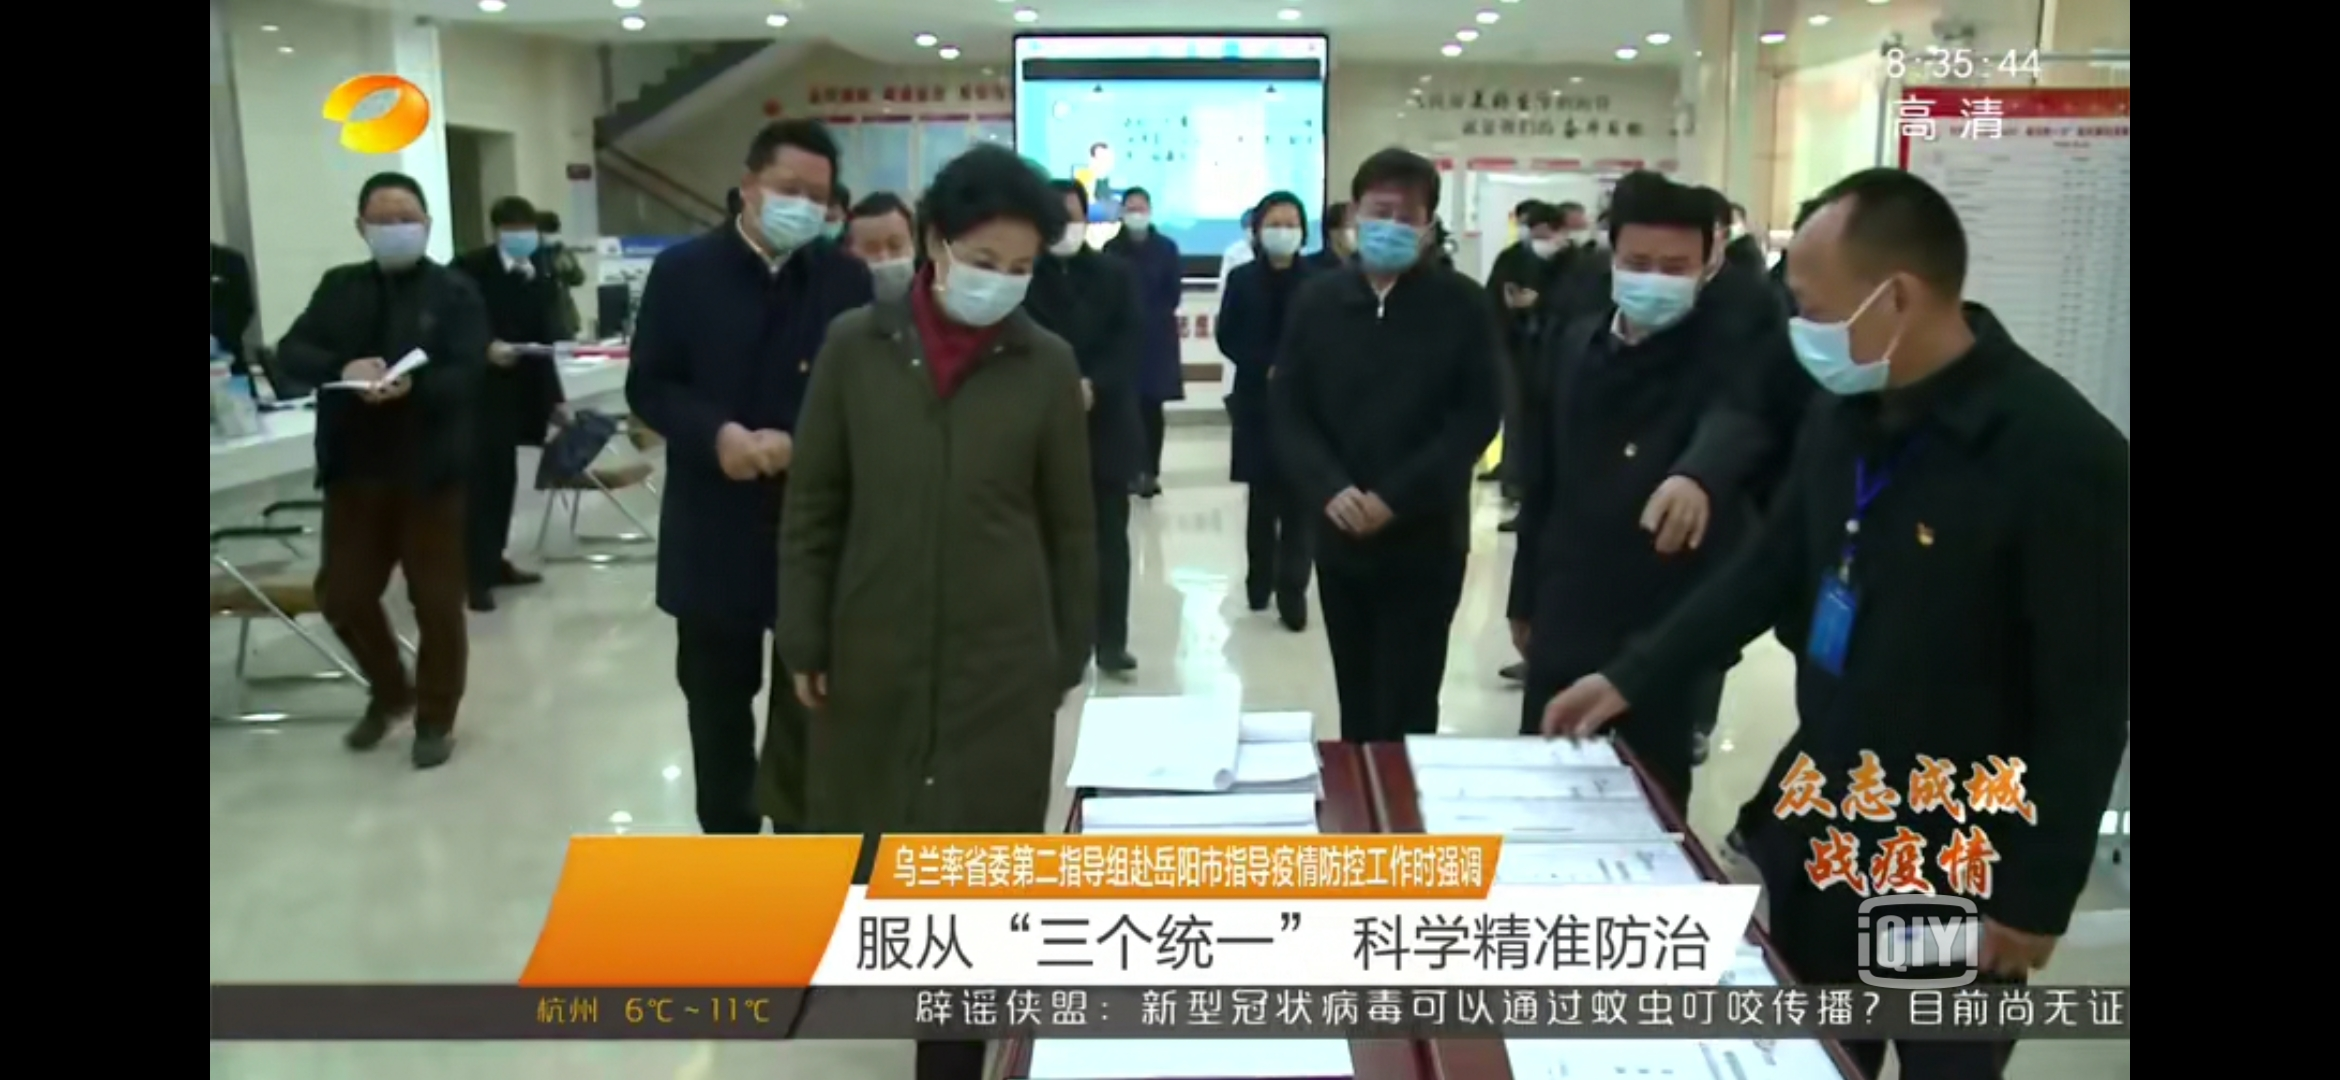correctlyWear: (1779, 245, 1924, 397), (922, 218, 1039, 327), (1610, 239, 1706, 330), (745, 166, 836, 249), (1351, 189, 1430, 271), (352, 198, 433, 270), (854, 224, 915, 304), (1045, 195, 1094, 257), (1251, 210, 1310, 258), (494, 210, 537, 261), (1118, 198, 1154, 233), (1530, 227, 1565, 260)
